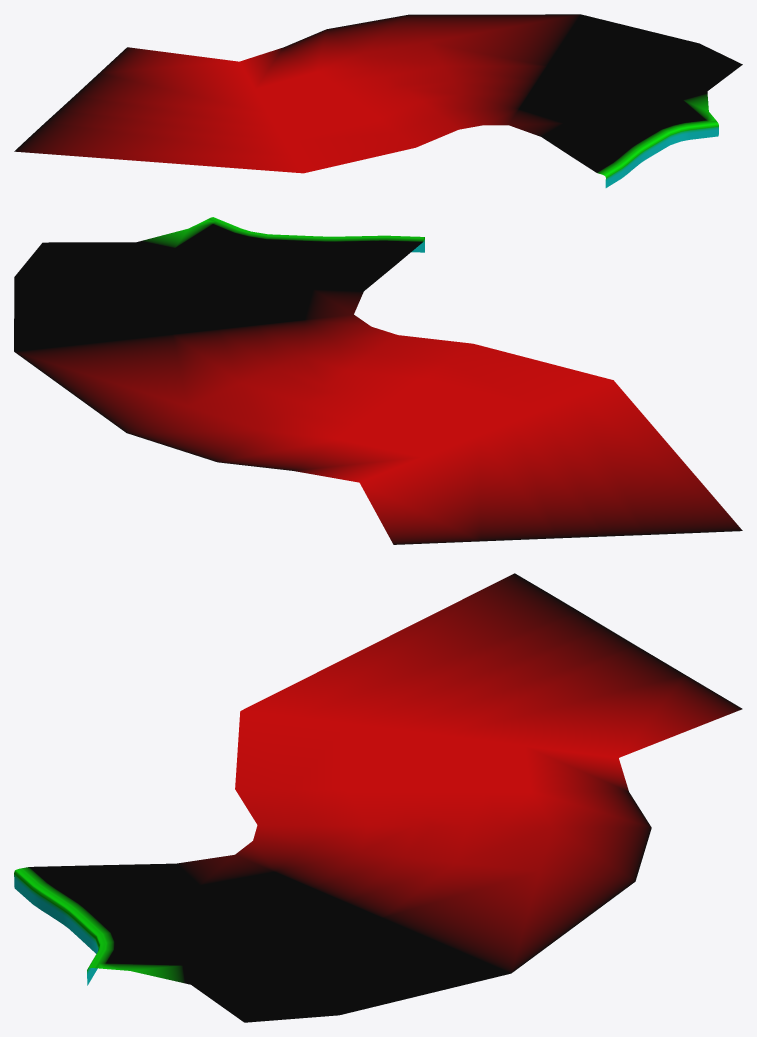
The picture shows the model from 3 angles, top to bottom: view 1: azimuth 30°, elevation 25°; view 2: azimuth 150°, elevation 25°; view 3: azimuth 270°, elevation 25°; orthographic projection. The views are drawn at different scales.
Parts seen in each view (by area): view 1: G:\FFXIV-MapTools\exports\e3f2\bg\ex2\02_est_e3\fld\e3f2\bgp; view 2: G:\FFXIV-MapTools\exports\e3f2\bg\ex2\02_est_e3\fld\e3f2\bgp; view 3: G:\FFXIV-MapTools\exports\e3f2\bg\ex2\02_est_e3\fld\e3f2\bgp.
Part boxes in pixels (left/top/right/bottom): G:\FFXIV-MapTools\exports\e3f2\bg\ex2\02_est_e3\fld\e3f2\bgp: left=14, top=14, right=742, bottom=187; G:\FFXIV-MapTools\exports\e3f2\bg\ex2\02_est_e3\fld\e3f2\bgp: left=14, top=217, right=742, bottom=544; G:\FFXIV-MapTools\exports\e3f2\bg\ex2\02_est_e3\fld\e3f2\bgp: left=14, top=573, right=742, bottom=1022.
Bounding box in the file's own units: 2159 × 42.31 × 1479.
